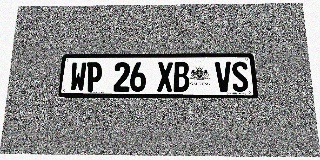2: (113, 62, 130, 92)
6: (130, 62, 146, 92)
B: (173, 62, 189, 92)
P: (85, 62, 102, 92)
S: (231, 62, 249, 92)
V: (215, 62, 232, 92)
W: (69, 62, 87, 92)
X: (157, 62, 173, 92)
